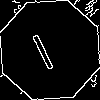I: (25, 25, 57, 72)
